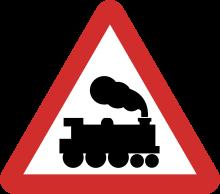Barrier Ahead: (11, 7, 214, 188)
